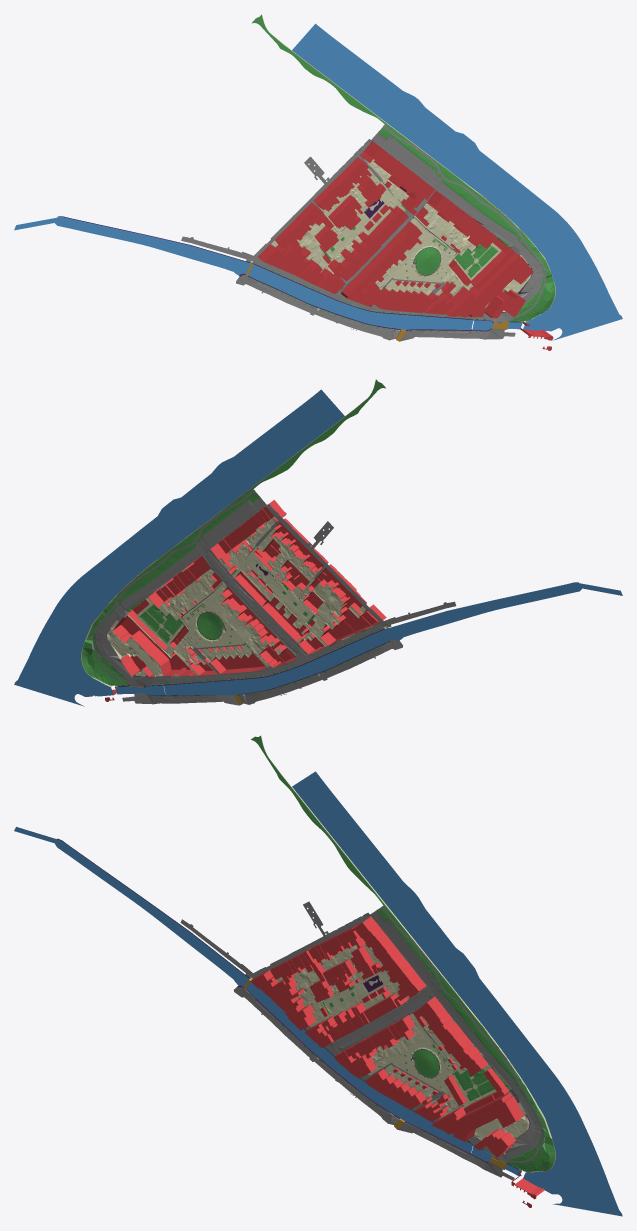
File: testarea.obj
3 views of the same model, one above another, from view 1: azimuth 30°, elevation 25°; view 2: azimuth 150°, elevation 25°; view 3: azimuth 330°, elevation 25° (orthographic).
Parts seen in each view (by area): view 1: b69a8d7bc-2d38-11e6-9a38-393caa90be70, bedab6302-00c8-11e6-b420-2bdcc4ab5d7f, b1105d28c-00ba-11e6-b420-2bdcc4ab5d7f, b2c160b4d-2d29-11e6-9a38-393caa90be70, b492abedc-00b4-11e6-b420-2bdcc4ab5d7f, b983a1b0d-00c9-11e6-b420-2bdcc4ab5d7f, b221e7287-00b5-11e6-b420-2bdcc4ab5d7f, b984231ca-00c9-11e6-b420-2bdcc4ab5d7f, b4138231e-00b4-11e6-b420-2bdcc4ab5d7f, b31be22bd-00ba-11e6-b420-2bdcc4ab5d7f, baef3f9c3-00c9-11e6-b420-2bdcc4ab5d7f, b1128007f-00ba-11e6-b420-2bdcc4ab5d7f (+9 smaller); view 2: b69a8d7bc-2d38-11e6-9a38-393caa90be70, bedab6302-00c8-11e6-b420-2bdcc4ab5d7f, b1105d28c-00ba-11e6-b420-2bdcc4ab5d7f, b2c160b4d-2d29-11e6-9a38-393caa90be70, b492abedc-00b4-11e6-b420-2bdcc4ab5d7f, b221e7287-00b5-11e6-b420-2bdcc4ab5d7f, b983a1b0d-00c9-11e6-b420-2bdcc4ab5d7f, b4138231e-00b4-11e6-b420-2bdcc4ab5d7f, b2223065e-00b5-11e6-b420-2bdcc4ab5d7f, b4931c302-00b4-11e6-b420-2bdcc4ab5d7f, b22250278-00b5-11e6-b420-2bdcc4ab5d7f, b984231ca-00c9-11e6-b420-2bdcc4ab5d7f (+14 smaller); view 3: b69a8d7bc-2d38-11e6-9a38-393caa90be70, bedab6302-00c8-11e6-b420-2bdcc4ab5d7f, b1105d28c-00ba-11e6-b420-2bdcc4ab5d7f, b2c160b4d-2d29-11e6-9a38-393caa90be70, b492abedc-00b4-11e6-b420-2bdcc4ab5d7f, b4138231e-00b4-11e6-b420-2bdcc4ab5d7f, b983a1b0d-00c9-11e6-b420-2bdcc4ab5d7f, b82575848-2d29-11e6-9a38-393caa90be70, b4931c302-00b4-11e6-b420-2bdcc4ab5d7f, b2223065e-00b5-11e6-b420-2bdcc4ab5d7f, baef3f9c3-00c9-11e6-b420-2bdcc4ab5d7f, b31be22bd-00ba-11e6-b420-2bdcc4ab5d7f.
Boxes of the visible parts, x1,y1,x2,y2 form: b69a8d7bc-2d38-11e6-9a38-393caa90be70: (292,23,622,340); bedab6302-00c8-11e6-b420-2bdcc4ab5d7f: (14,216,473,329); b1105d28c-00ba-11e6-b420-2bdcc4ab5d7f: (445,252,533,317); b2c160b4d-2d29-11e6-9a38-393caa90be70: (252,15,531,247); b492abedc-00b4-11e6-b420-2bdcc4ab5d7f: (379,220,456,289); b983a1b0d-00c9-11e6-b420-2bdcc4ab5d7f: (254,139,382,256); b221e7287-00b5-11e6-b420-2bdcc4ab5d7f: (414,203,475,255); b984231ca-00c9-11e6-b420-2bdcc4ab5d7f: (181,236,332,297); b4138231e-00b4-11e6-b420-2bdcc4ab5d7f: (320,181,405,272); b31be22bd-00ba-11e6-b420-2bdcc4ab5d7f: (484,290,525,318); baef3f9c3-00c9-11e6-b420-2bdcc4ab5d7f: (402,329,515,340); b1128007f-00ba-11e6-b420-2bdcc4ab5d7f: (370,206,408,244); b69a8d7bc-2d38-11e6-9a38-393caa90be70: (14,389,344,706); bedab6302-00c8-11e6-b420-2bdcc4ab5d7f: (163,582,622,695); b1105d28c-00ba-11e6-b420-2bdcc4ab5d7f: (112,615,196,676); b2c160b4d-2d29-11e6-9a38-393caa90be70: (106,379,385,612); b492abedc-00b4-11e6-b420-2bdcc4ab5d7f: (181,585,270,666); b221e7287-00b5-11e6-b420-2bdcc4ab5d7f: (158,568,223,620); b983a1b0d-00c9-11e6-b420-2bdcc4ab5d7f: (255,504,383,621); b4138231e-00b4-11e6-b420-2bdcc4ab5d7f: (232,546,327,646); b2223065e-00b5-11e6-b420-2bdcc4ab5d7f: (311,583,344,637); b4931c302-00b4-11e6-b420-2bdcc4ab5d7f: (211,594,275,653); b22250278-00b5-11e6-b420-2bdcc4ab5d7f: (254,534,318,581); b984231ca-00c9-11e6-b420-2bdcc4ab5d7f: (303,601,456,662); b69a8d7bc-2d38-11e6-9a38-393caa90be70: (292,771,622,1216); bedab6302-00c8-11e6-b420-2bdcc4ab5d7f: (14,827,472,1153); b1105d28c-00ba-11e6-b420-2bdcc4ab5d7f: (431,1092,524,1141); b2c160b4d-2d29-11e6-9a38-393caa90be70: (251,736,530,1099); b492abedc-00b4-11e6-b420-2bdcc4ab5d7f: (368,1018,455,1091); b4138231e-00b4-11e6-b420-2bdcc4ab5d7f: (310,961,399,1027); b983a1b0d-00c9-11e6-b420-2bdcc4ab5d7f: (253,901,379,975); b82575848-2d29-11e6-9a38-393caa90be70: (261,736,551,1137); b4931c302-00b4-11e6-b420-2bdcc4ab5d7f: (371,1025,425,1067); b2223065e-00b5-11e6-b420-2bdcc4ab5d7f: (293,968,324,1020); baef3f9c3-00c9-11e6-b420-2bdcc4ab5d7f: (399,1123,514,1180); b31be22bd-00ba-11e6-b420-2bdcc4ab5d7f: (474,1128,516,1157).
Size of the model in its own units: 524 by 328 by 14.96.
